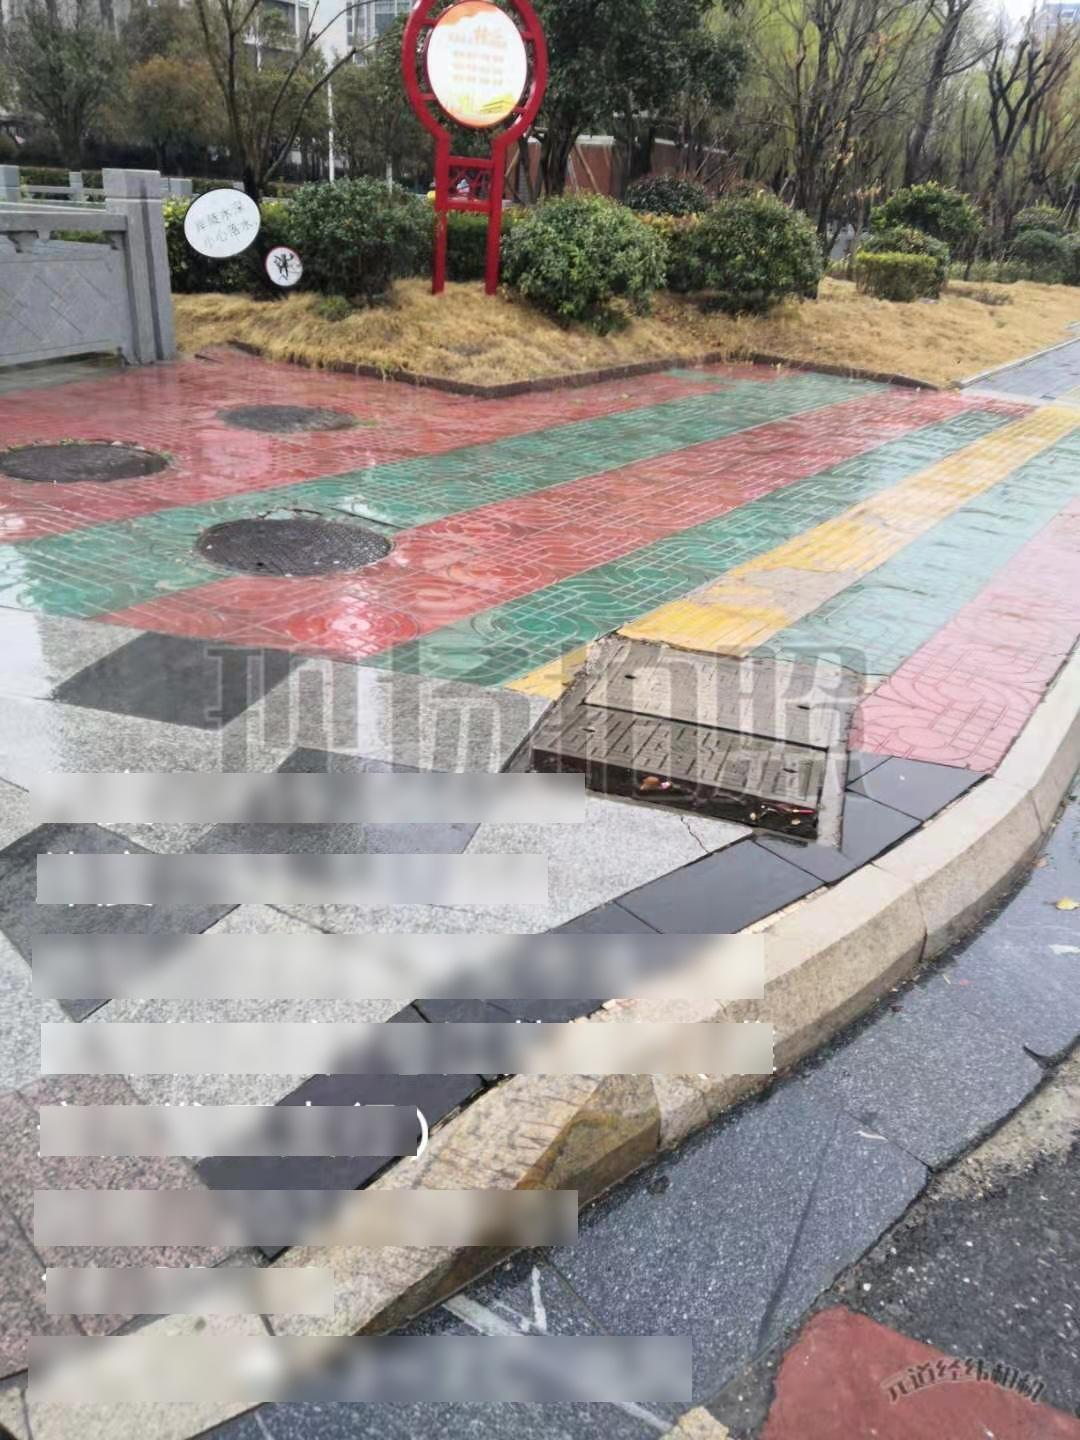wellcover: (531, 603, 863, 869), (201, 499, 414, 591), (0, 414, 183, 506), (216, 373, 378, 447)
